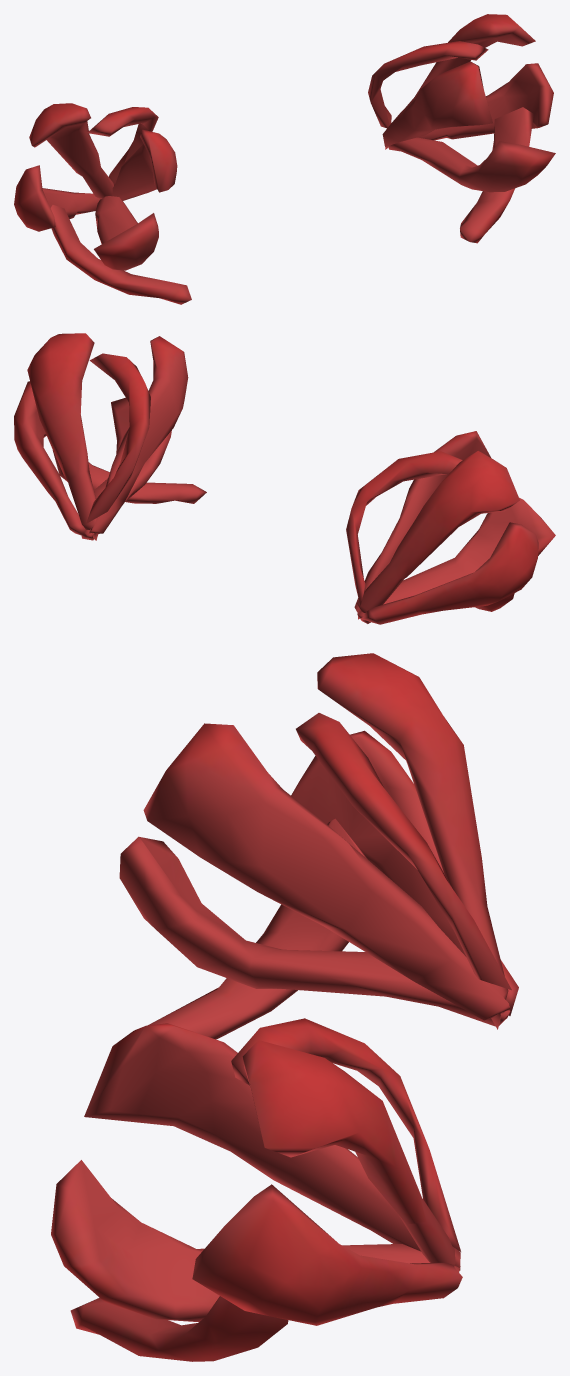
File: Optical_Muscles.glb
The picture shows the model from 3 angles, top to bottom: view 1: azimuth 30°, elevation 25°; view 2: azimuth 150°, elevation 25°; view 3: azimuth 270°, elevation 25°; orthographic projection. The views are drawn at different scales.
Parts seen in each view (by area): view 1: optical_muscles.001; view 2: optical_muscles.001; view 3: optical_muscles.001.
Boxes of the visible parts, bbox=[...] form: optical_muscles.001: bbox=[14, 14, 555, 304]; optical_muscles.001: bbox=[14, 333, 555, 624]; optical_muscles.001: bbox=[51, 653, 518, 1361].
Size of the model in its own units: 0.1831 by 0.0601 by 0.0729.
Materials: 1 (1 with a texture image).
